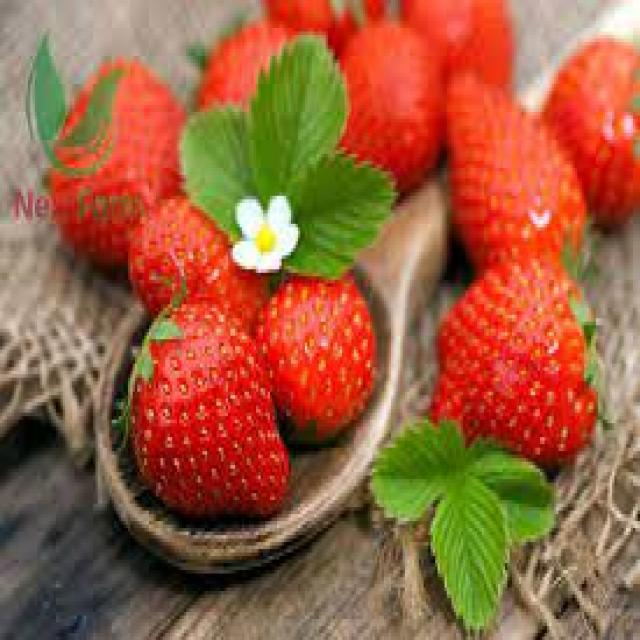Fruta sana: (433, 247, 604, 472), (130, 295, 289, 523), (42, 29, 183, 268), (443, 68, 604, 266), (254, 259, 380, 439), (551, 17, 640, 225), (340, 18, 448, 188), (131, 198, 263, 324), (400, 0, 517, 96), (201, 12, 297, 114), (260, 0, 392, 50)
